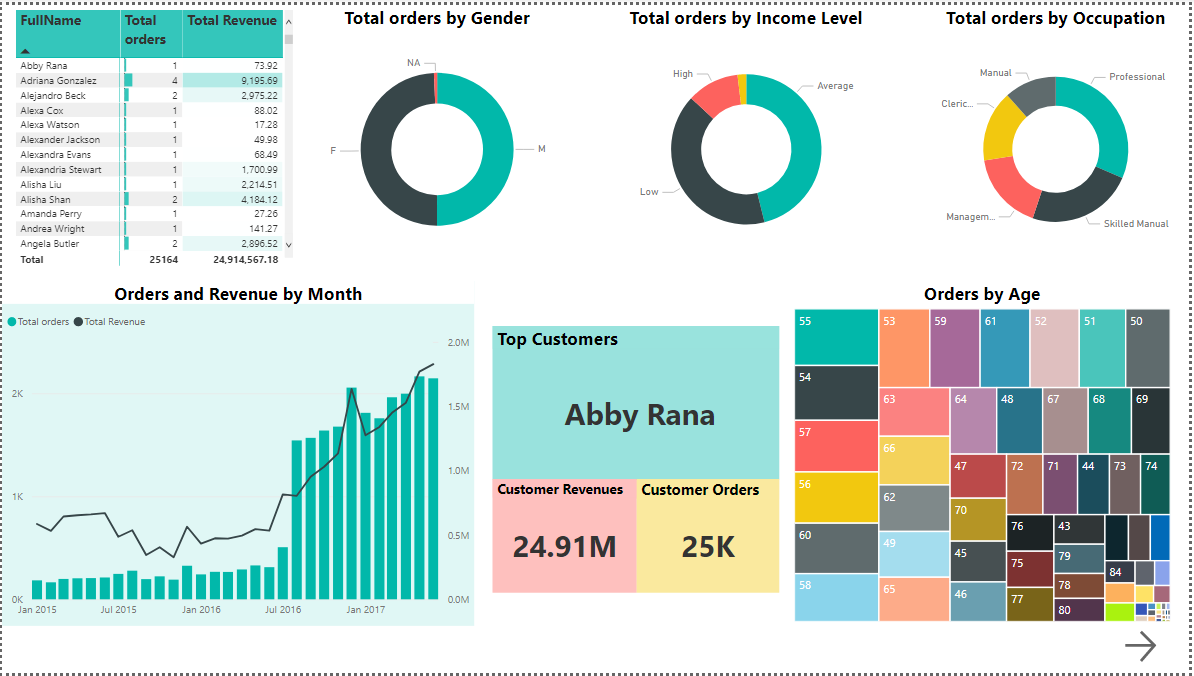

The page's visual inventory and layout, read from the dashboard file:
{"tool":"powerbi","page":{"name":"Customer detail","canvas":[1280,720],"ordinal":1},"visuals":[{"type":"pivotTable","fields":{"Values":["AW_SalesFiles.Total orders","AW_SalesFiles.Total Revenue"],"Rows":["AW_Customers_Lookup.FullName"]},"box":[9.7,0,309,286.4],"z":0},{"type":"donutChart","title":"Total orders by Gender","fields":{"Y":["AW_SalesFiles.Total orders"],"Category":["AW_Customers_Lookup.Gender"]},"box":[331.7,0,275.1,286.4],"z":1000},{"type":"donutChart","title":"Total orders by Income Level","fields":{"Y":["AW_SalesFiles.Total orders"],"Category":["AW_Customers_Lookup.IncomeLevel"]},"box":[669.8,0,265.3,286.4],"z":2000},{"type":"donutChart","title":"Total orders by Income Level","fields":{"Y":["AW_SalesFiles.Total orders"],"Category":["AW_Customers_Lookup.IncomeLevel"]},"box":[1551.4,0,280,311.4],"z":3000},{"type":"donutChart","title":"Total orders by Occupation","fields":{"Y":["AW_SalesFiles.Total orders"],"Category":["AW_Customers_Lookup.Occupation"]},"box":[1008,0,257.3,286.4],"z":4000},{"type":"lineClusteredColumnComboChart","title":"Orders and Revenue by Month","fields":{"Category":["AW_Calendar_Lookup.Start of Month"],"Y2":["AW_SalesFiles.Total Revenue"],"Y":["AW_SalesFiles.Total orders"]},"box":[0,297.7,509.7,372.1],"z":5000},{"type":"treemap","title":"Orders by Age","fields":{"Values":["AW_SalesFiles.Total orders"],"Group":["AW_Customers_Lookup.Current Age"]},"box":[849.4,297.7,415.8,372.1],"z":6000},{"type":"card","title":"Top Customers","fields":{"Values":["AW_Customers_Lookup.FullName"]},"box":[529.1,346.2,309,165],"z":7000},{"type":"card","title":"Customer Orders","fields":{"Values":["AW_SalesFiles.Total orders"]},"box":[684.4,511.3,153.7,123],"z":8000},{"type":"card","title":"Customer Revenues","fields":{"Values":["AW_SalesFiles.Total Revenue"]},"box":[529.1,511.3,155.3,123],"z":9000},{"type":"actionButton","box":[1205.4,669.8,74.4,43.7],"z":11000}]}

Visuals, with their boxes in screenshot pixels (x1, y1, x2, y2), scaled from the page's 1280x720 canvas onto the 1194x676 screenshot:
pivotTable - AW_SalesFiles.Total orders x AW_SalesFiles.Total Revenue: bbox(9, 0, 297, 269)
"Total orders by Gender" donutChart: bbox(309, 0, 566, 269)
"Total orders by Income Level" donutChart: bbox(625, 0, 872, 269)
"Total orders by Occupation" donutChart: bbox(940, 0, 1180, 269)
"Orders and Revenue by Month" lineClusteredColumnComboChart: bbox(0, 280, 475, 629)
"Orders by Age" treemap: bbox(792, 280, 1180, 629)
"Top Customers" card: bbox(494, 325, 782, 480)
"Customer Orders" card: bbox(638, 480, 782, 596)
"Customer Revenues" card: bbox(494, 480, 638, 596)
actionButton: bbox(1124, 629, 1193, 670)
